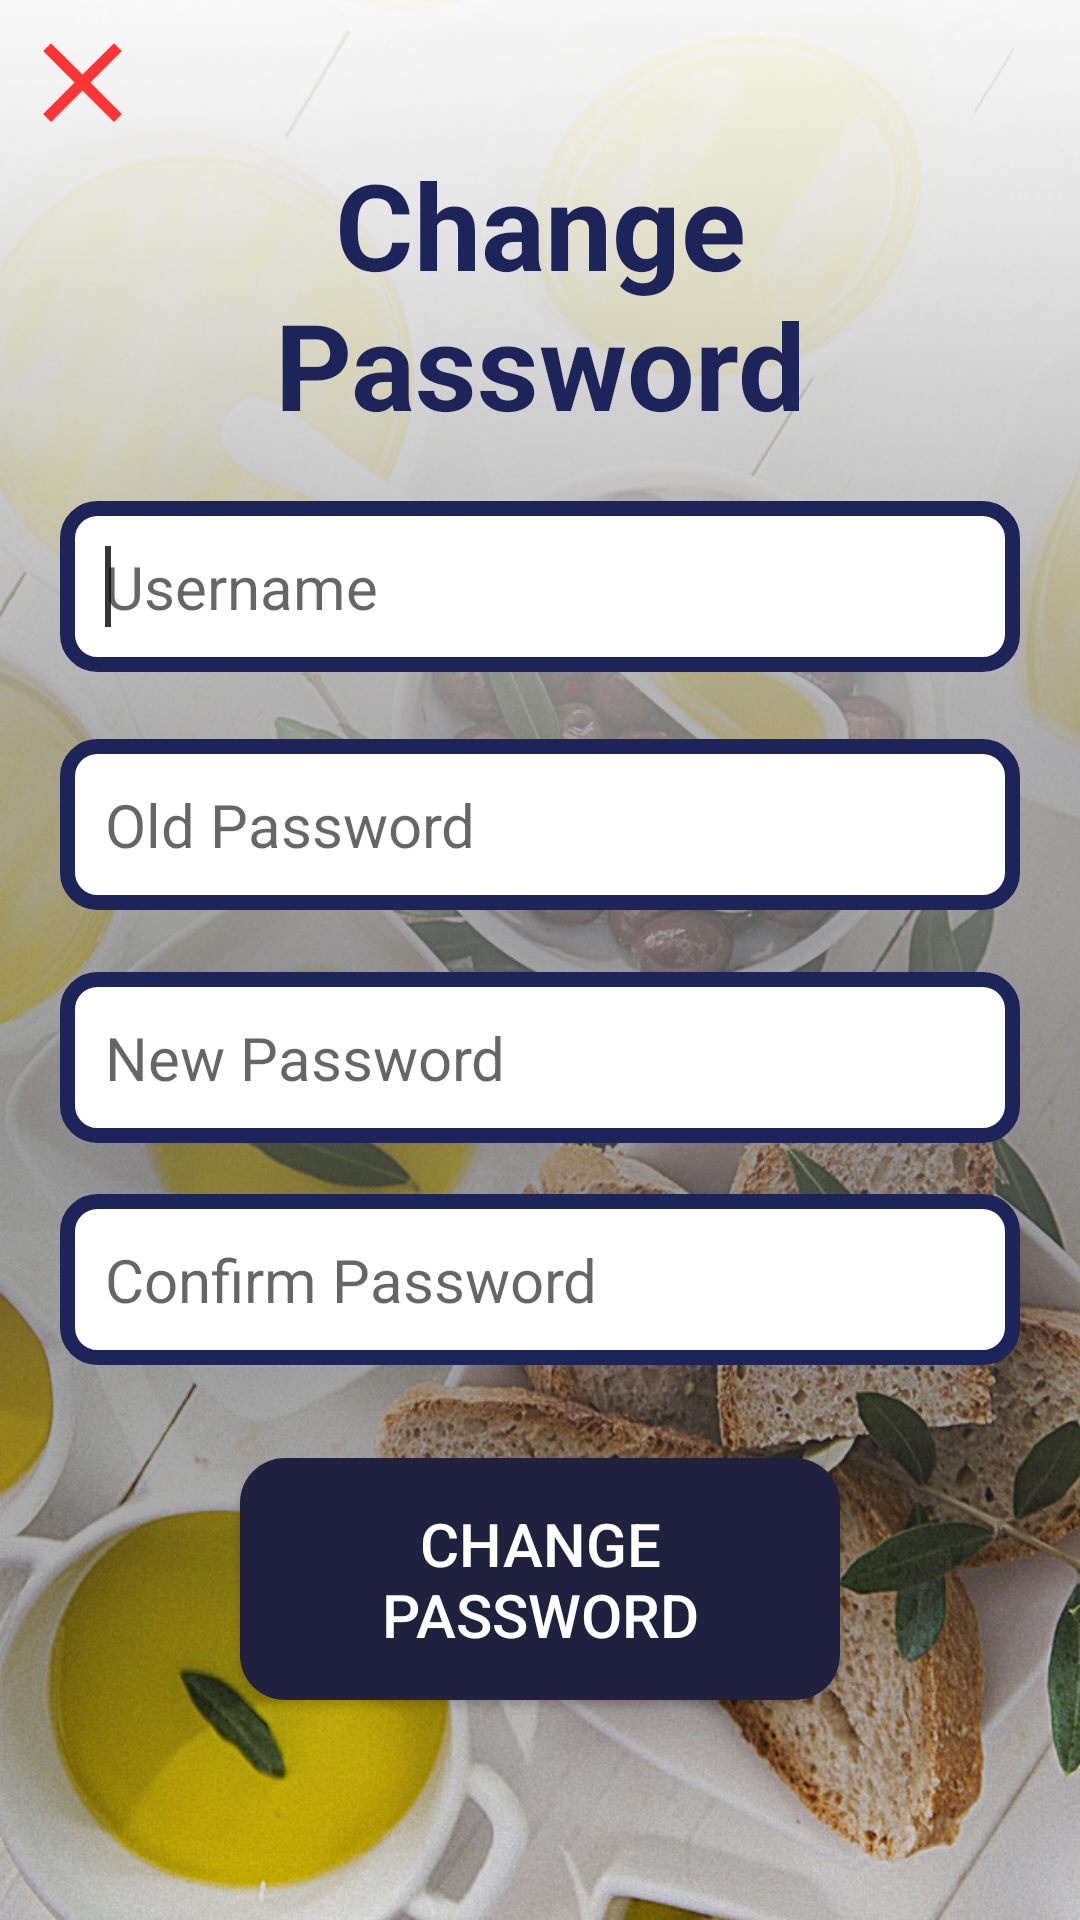

Icons on this 1080px x 1920px Android screen, each with the point to tap as point (x, y):
close: point (82, 82)
